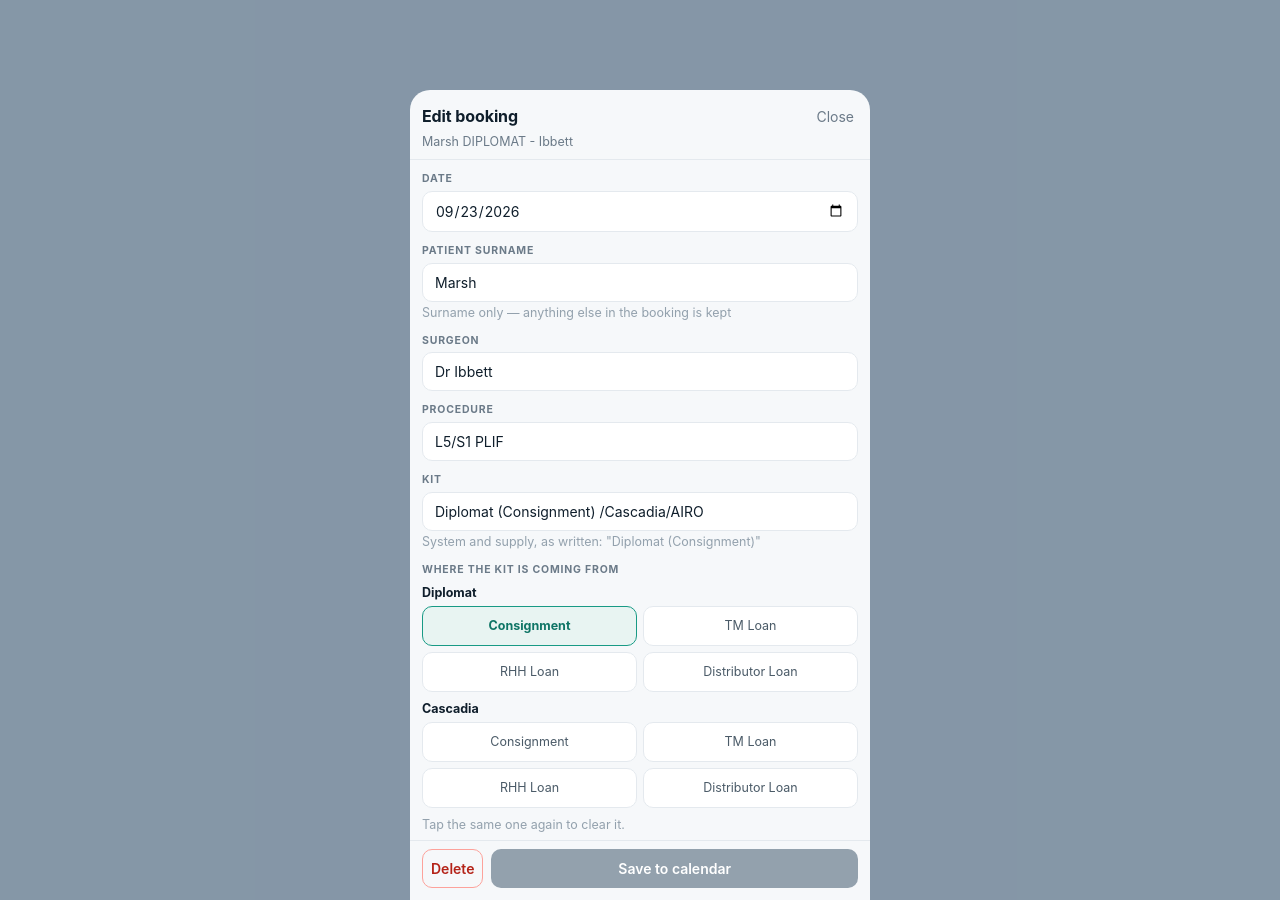
deleting a booking › can be backed out of
Expected: the field showing "L5/S1 PLIF" is shown, [422,422,858,461]
Click the button with aria-label "Delete booking".
click(453, 868)  # box [422,849,483,888]
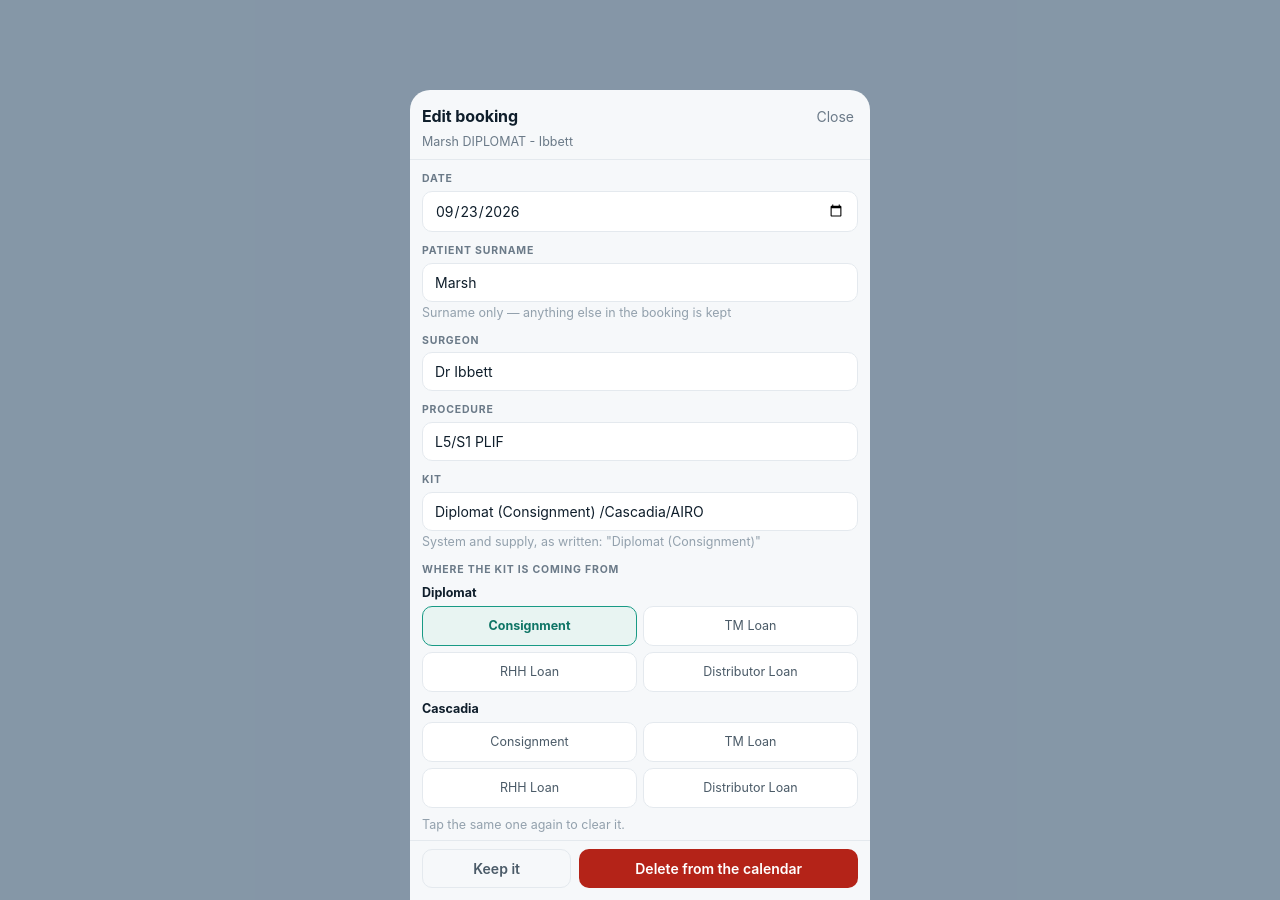
Click the button "Keep it".
click(497, 868)  # box [422,849,571,888]
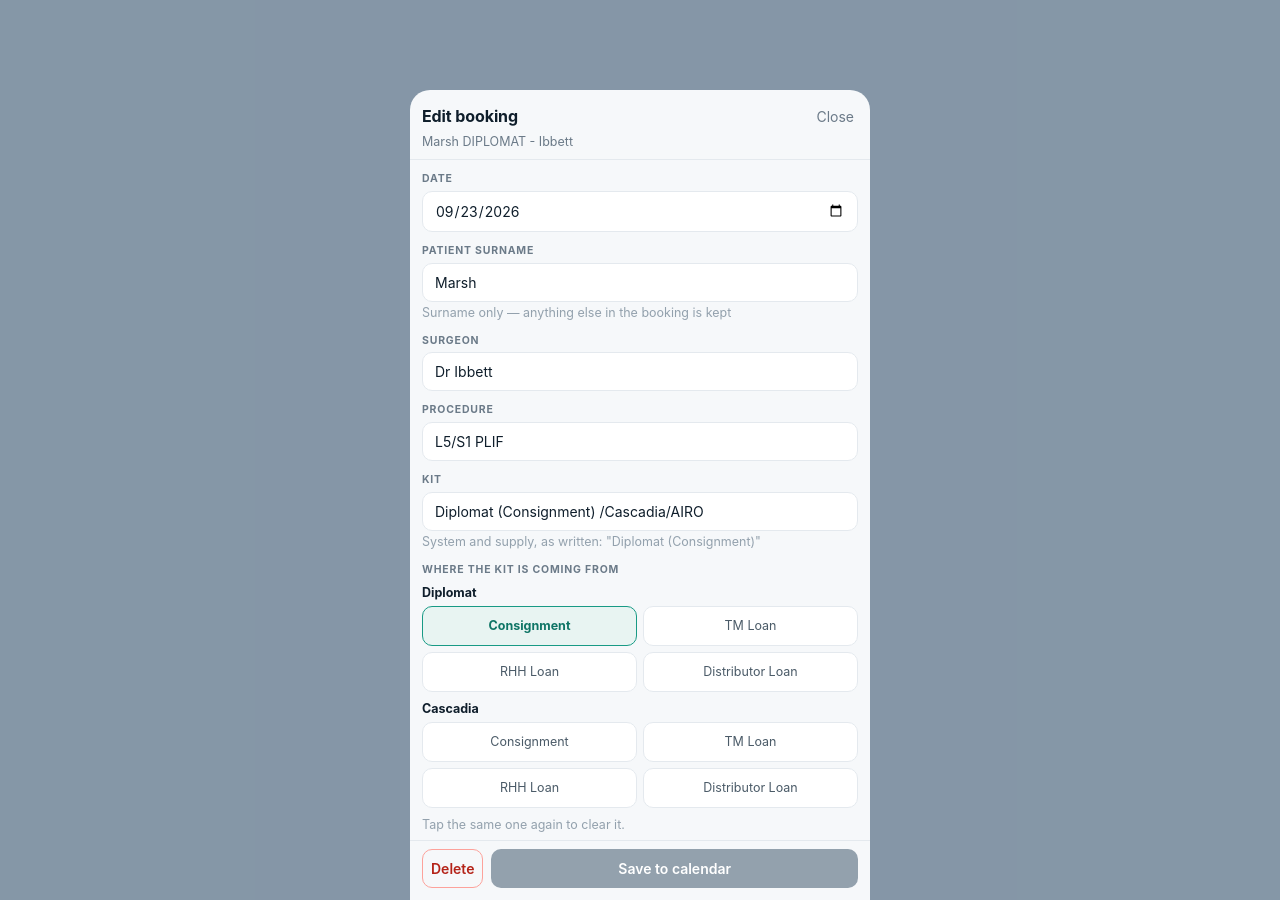
Result: the button "Delete from the calendar" is gone
